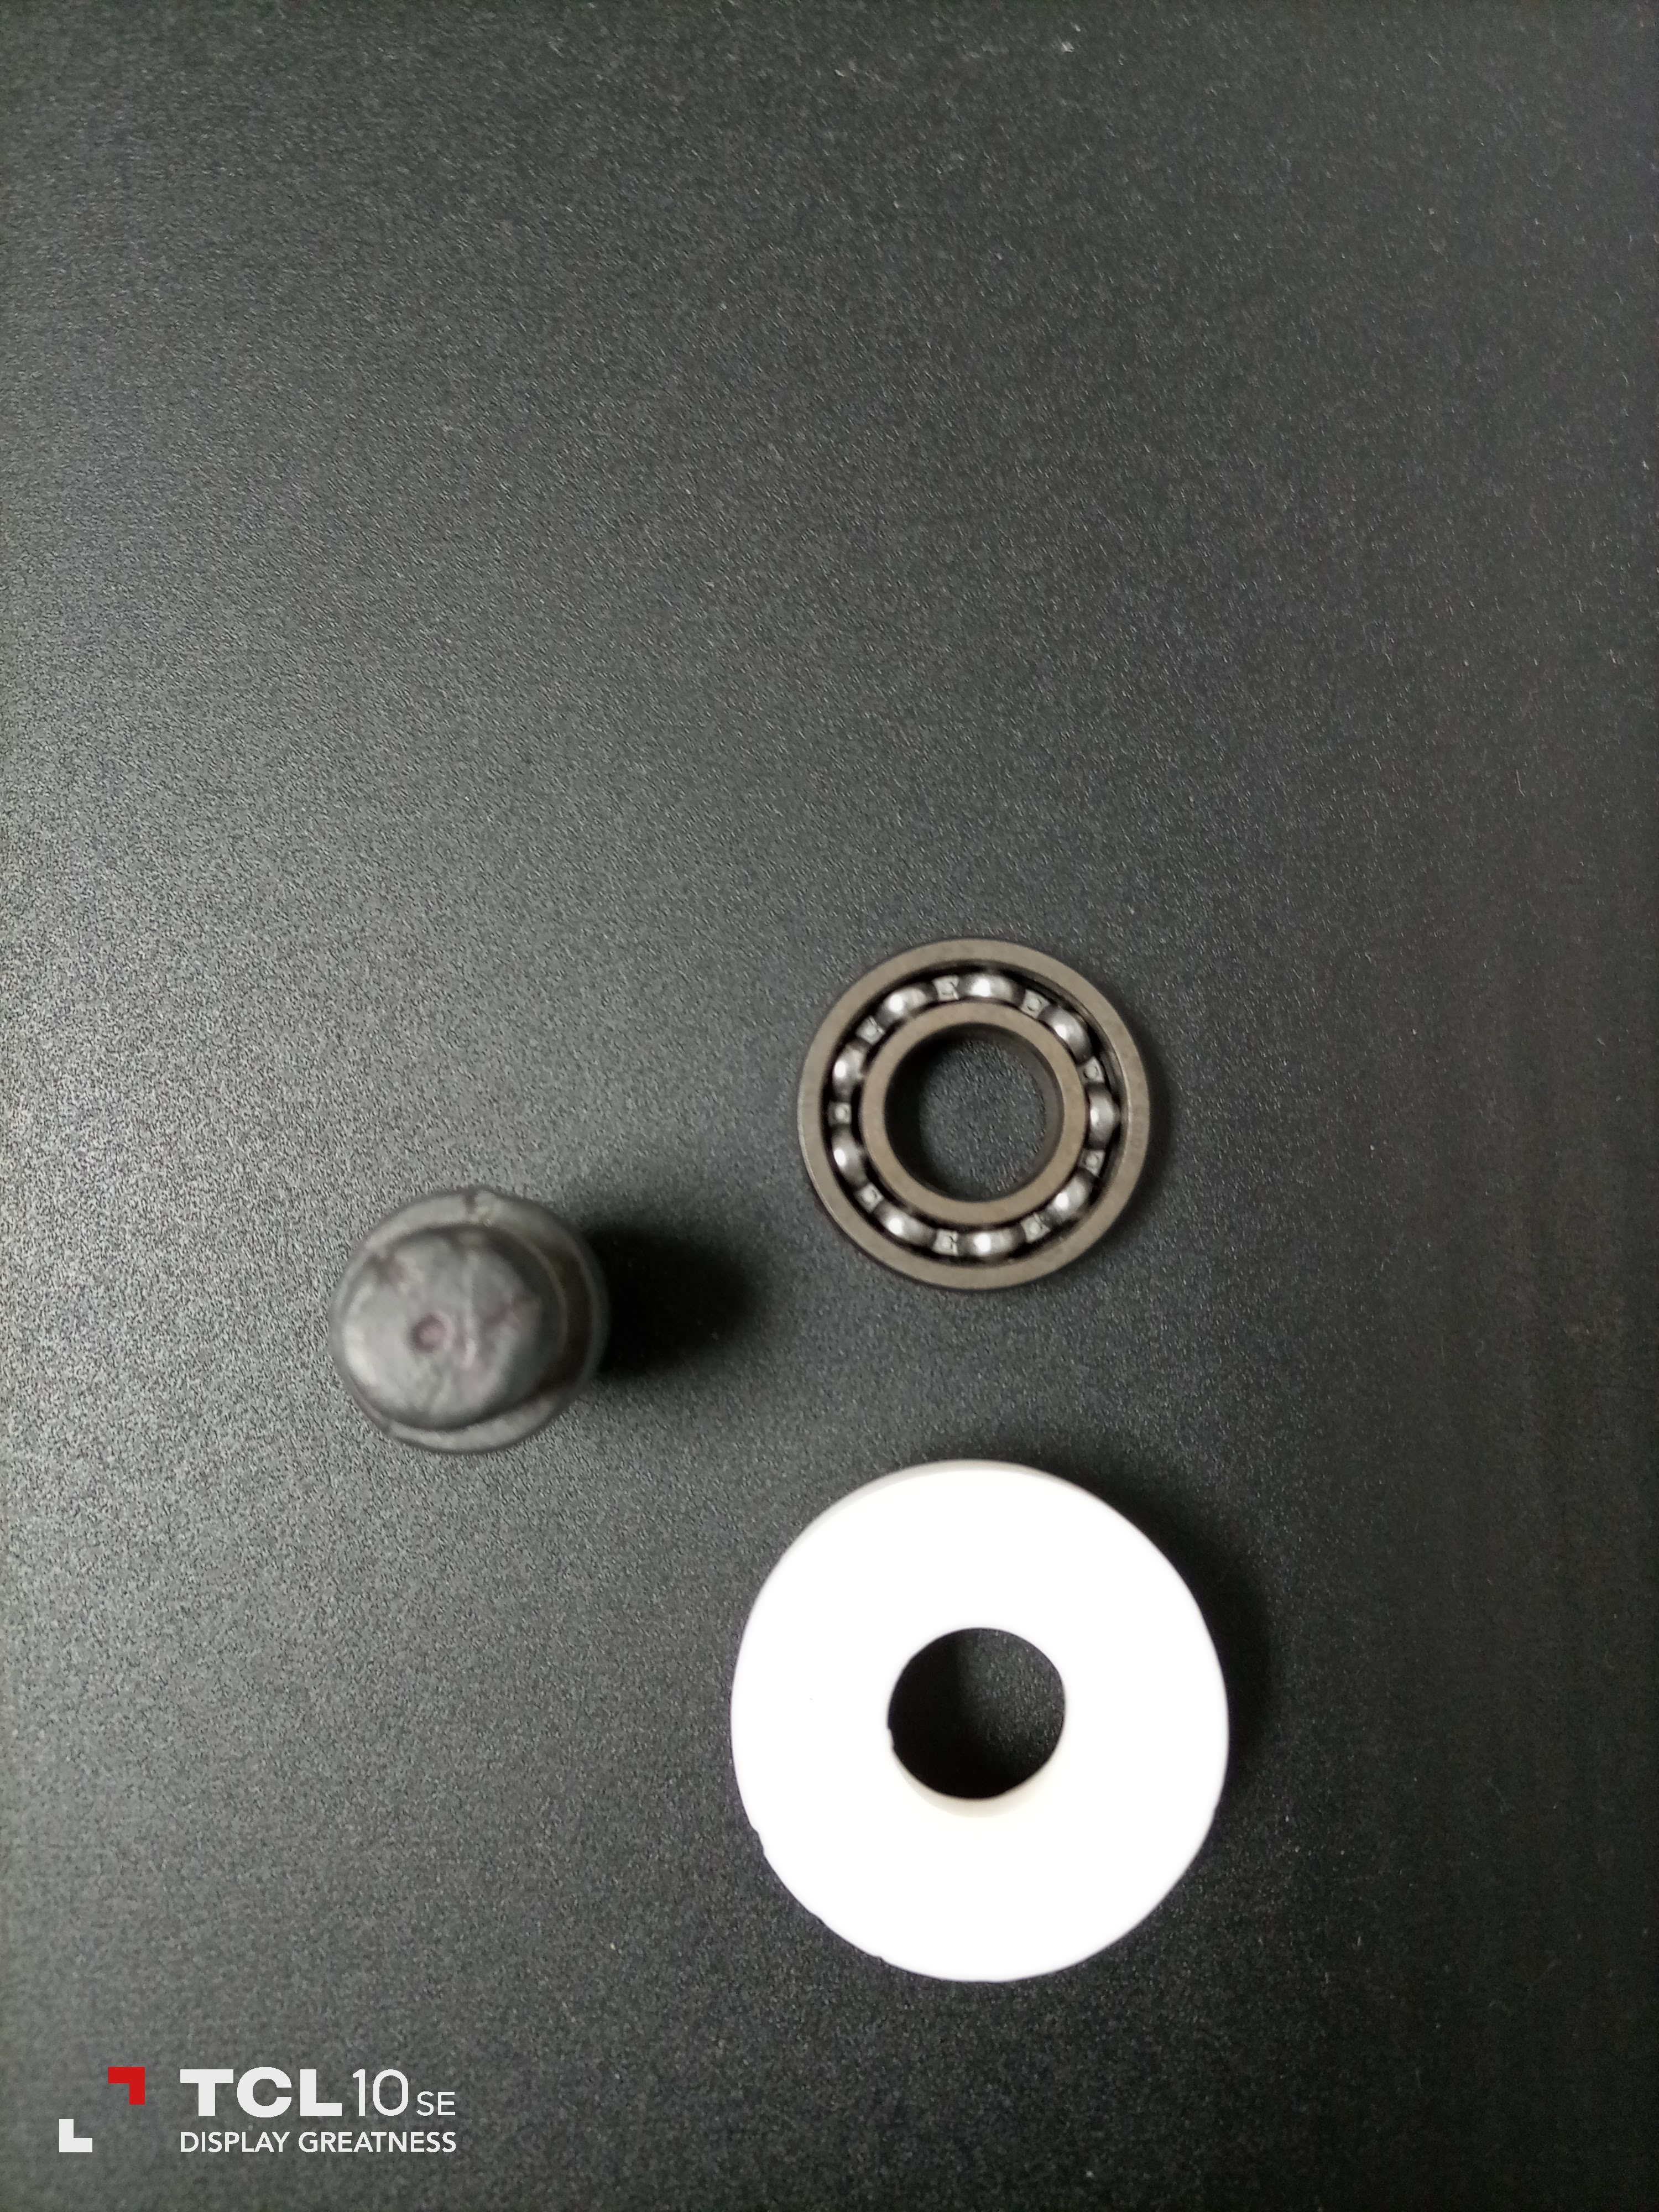Ardatza: (310, 1172, 608, 1456)
Roda: (793, 925, 1157, 1291)
Tapa: (720, 1456, 1227, 1991)
